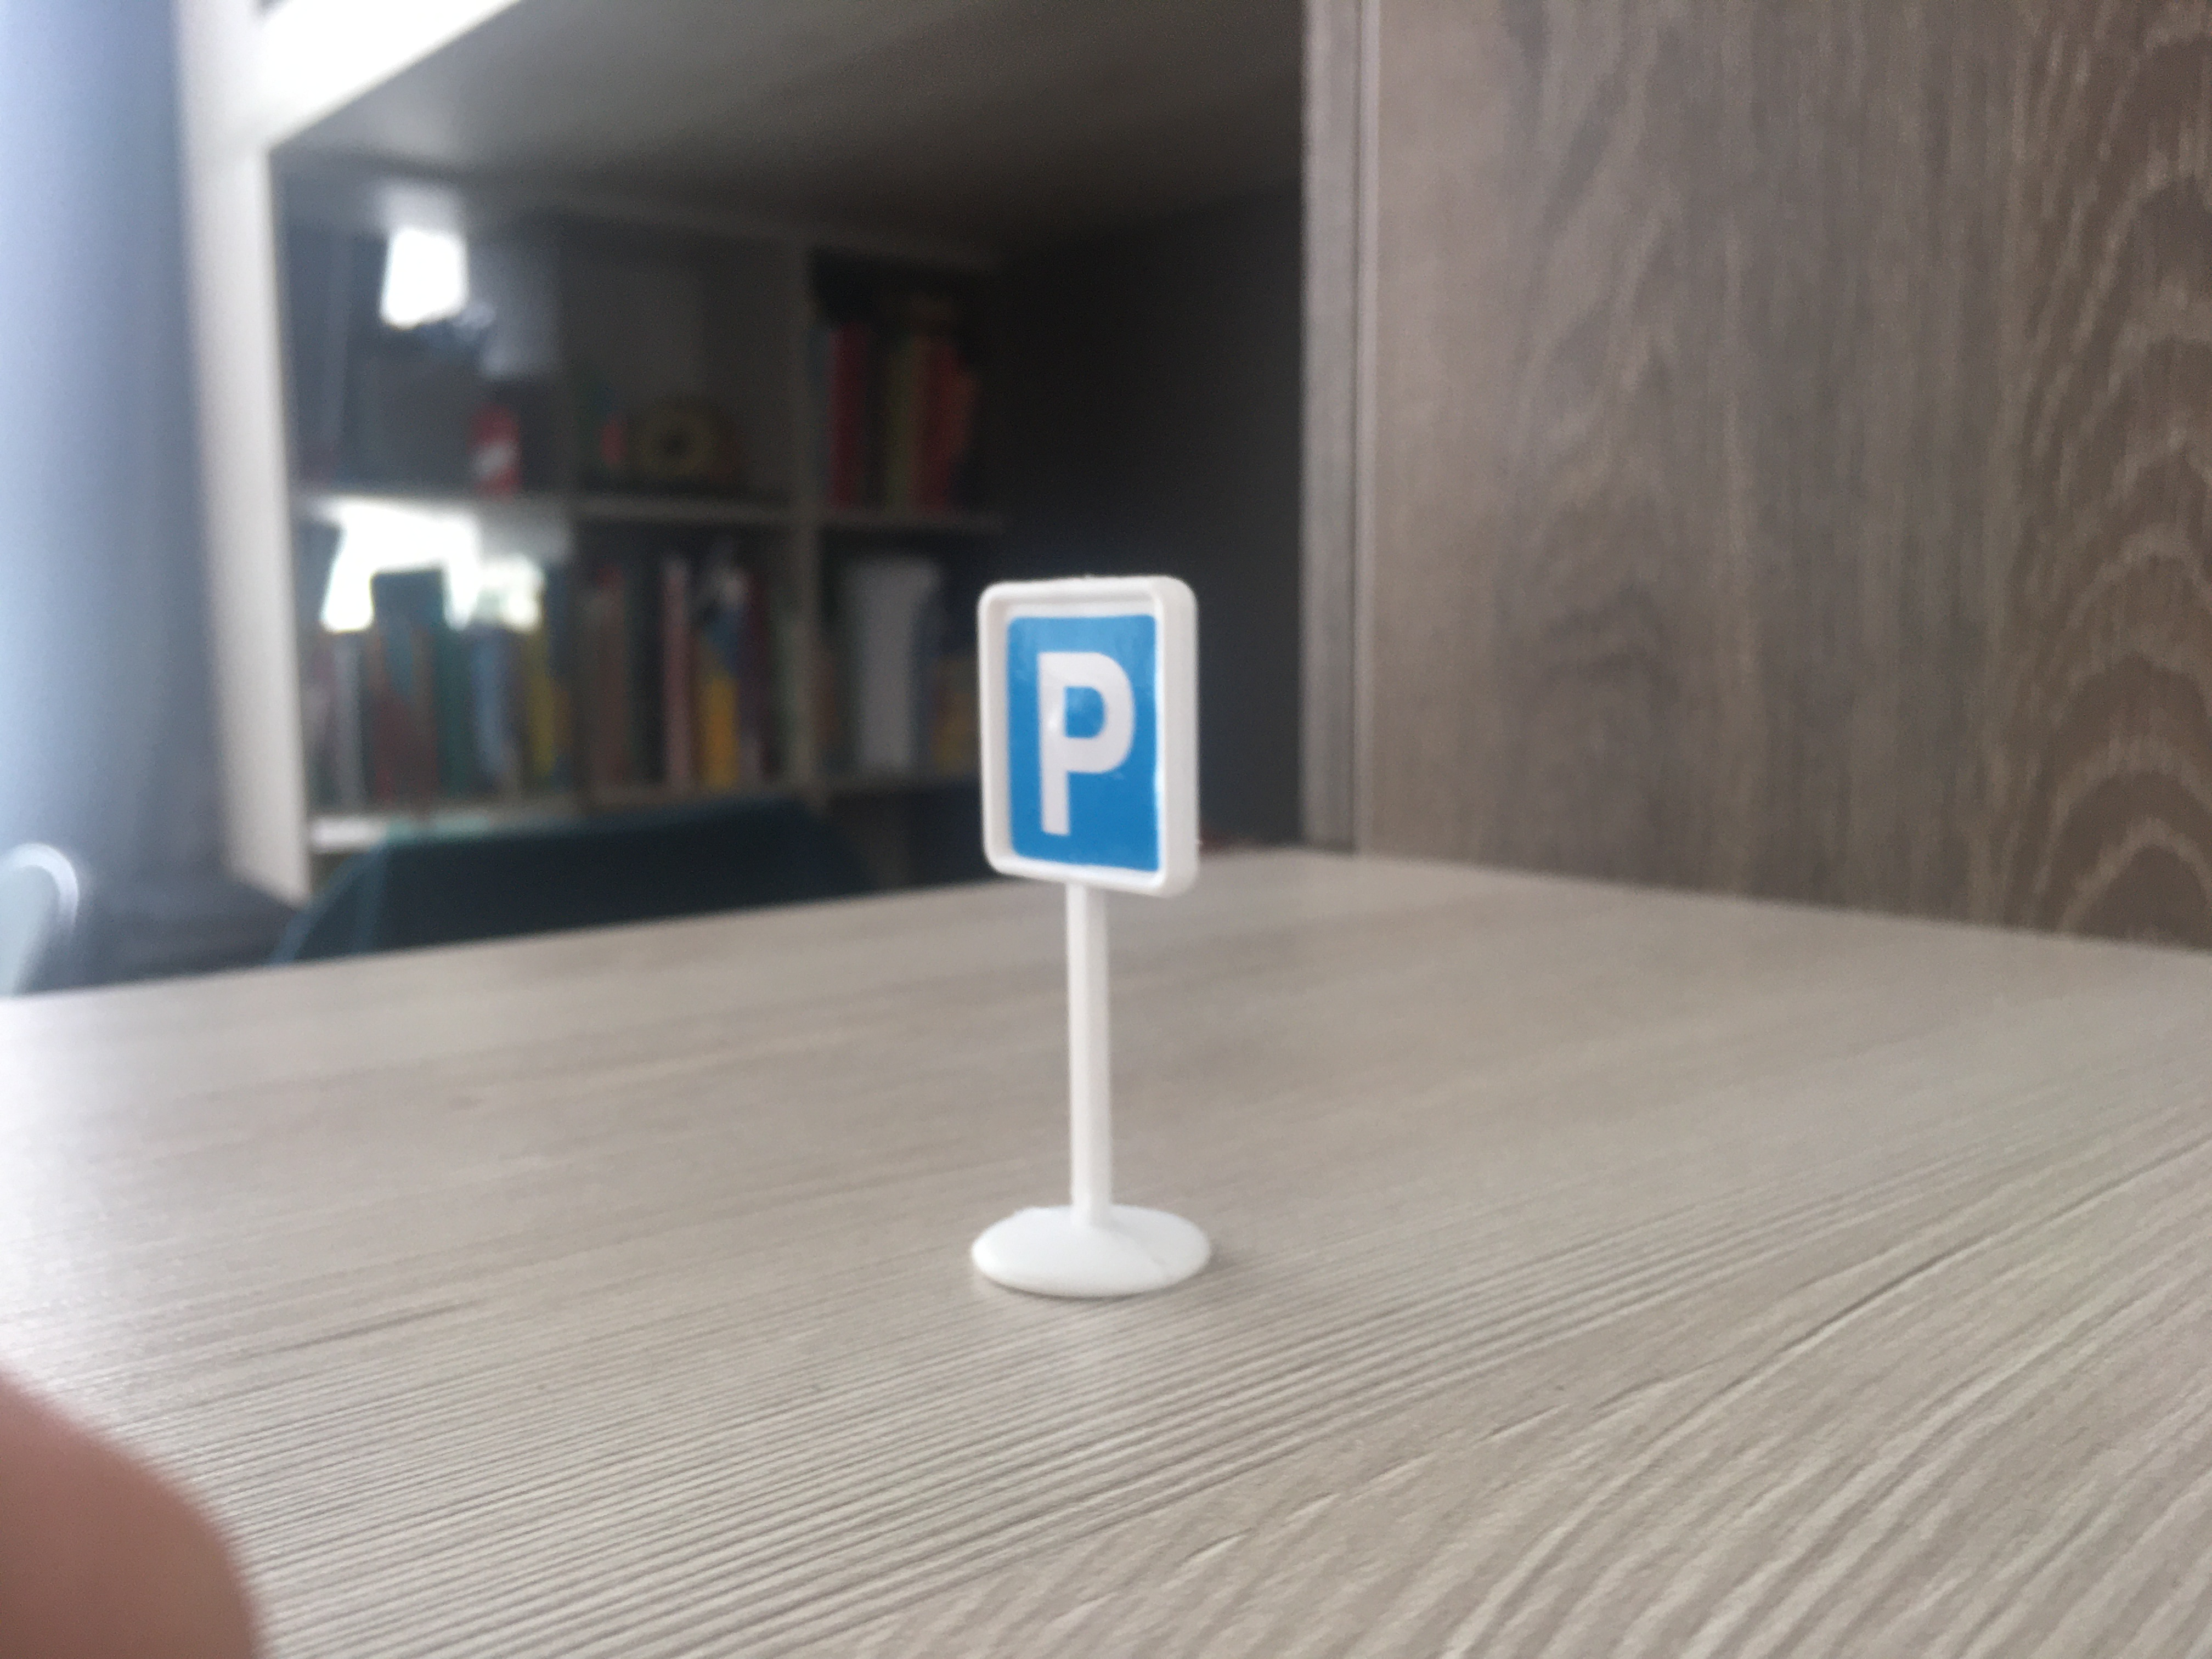parking: (968, 575, 1200, 904)
